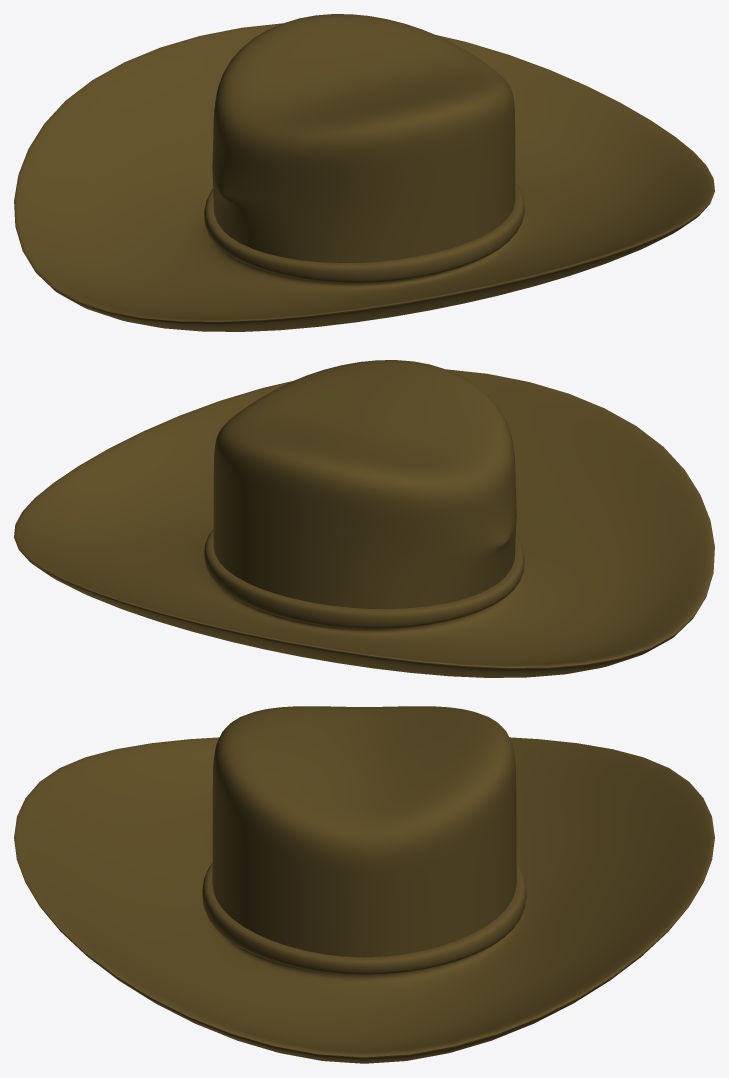
File: cowboy.glb
3 views of the same model, one above another, from view 1: azimuth 30°, elevation 25°; view 2: azimuth 150°, elevation 25°; view 3: azimuth 270°, elevation 25° (orthographic). The views are drawn at different scales.
Visible parts, largest first — view 1: Disc; view 2: Disc; view 3: Disc.
Part boxes in pixels (x1,y1,x2,y2): Disc: [14, 14, 714, 331]; Disc: [14, 360, 714, 677]; Disc: [14, 706, 714, 1063].
Size of the model in its own units: 1.5 by 0.4241 by 1.38.
